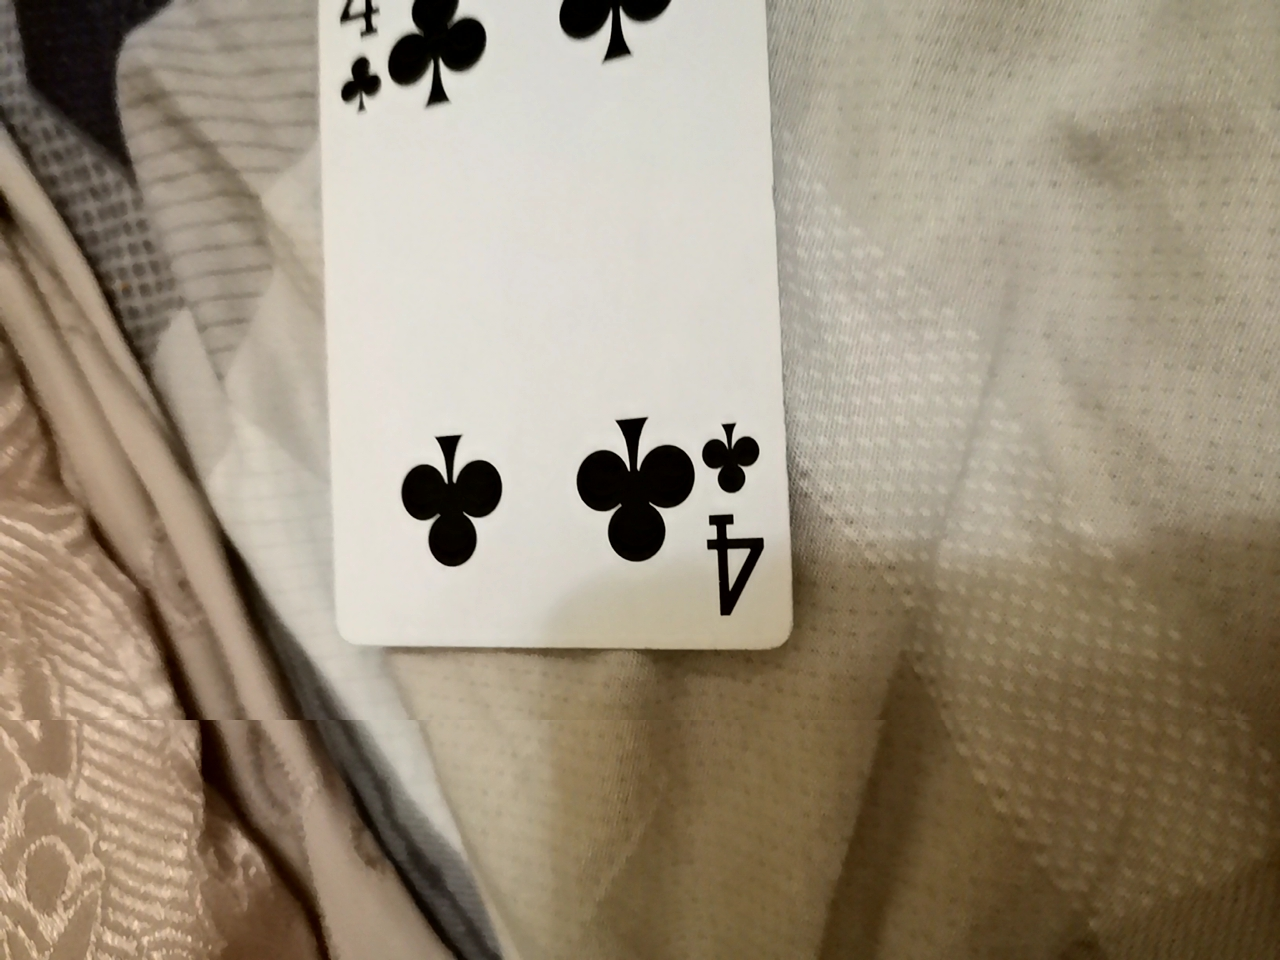mh 4: (314, 36, 823, 699)
